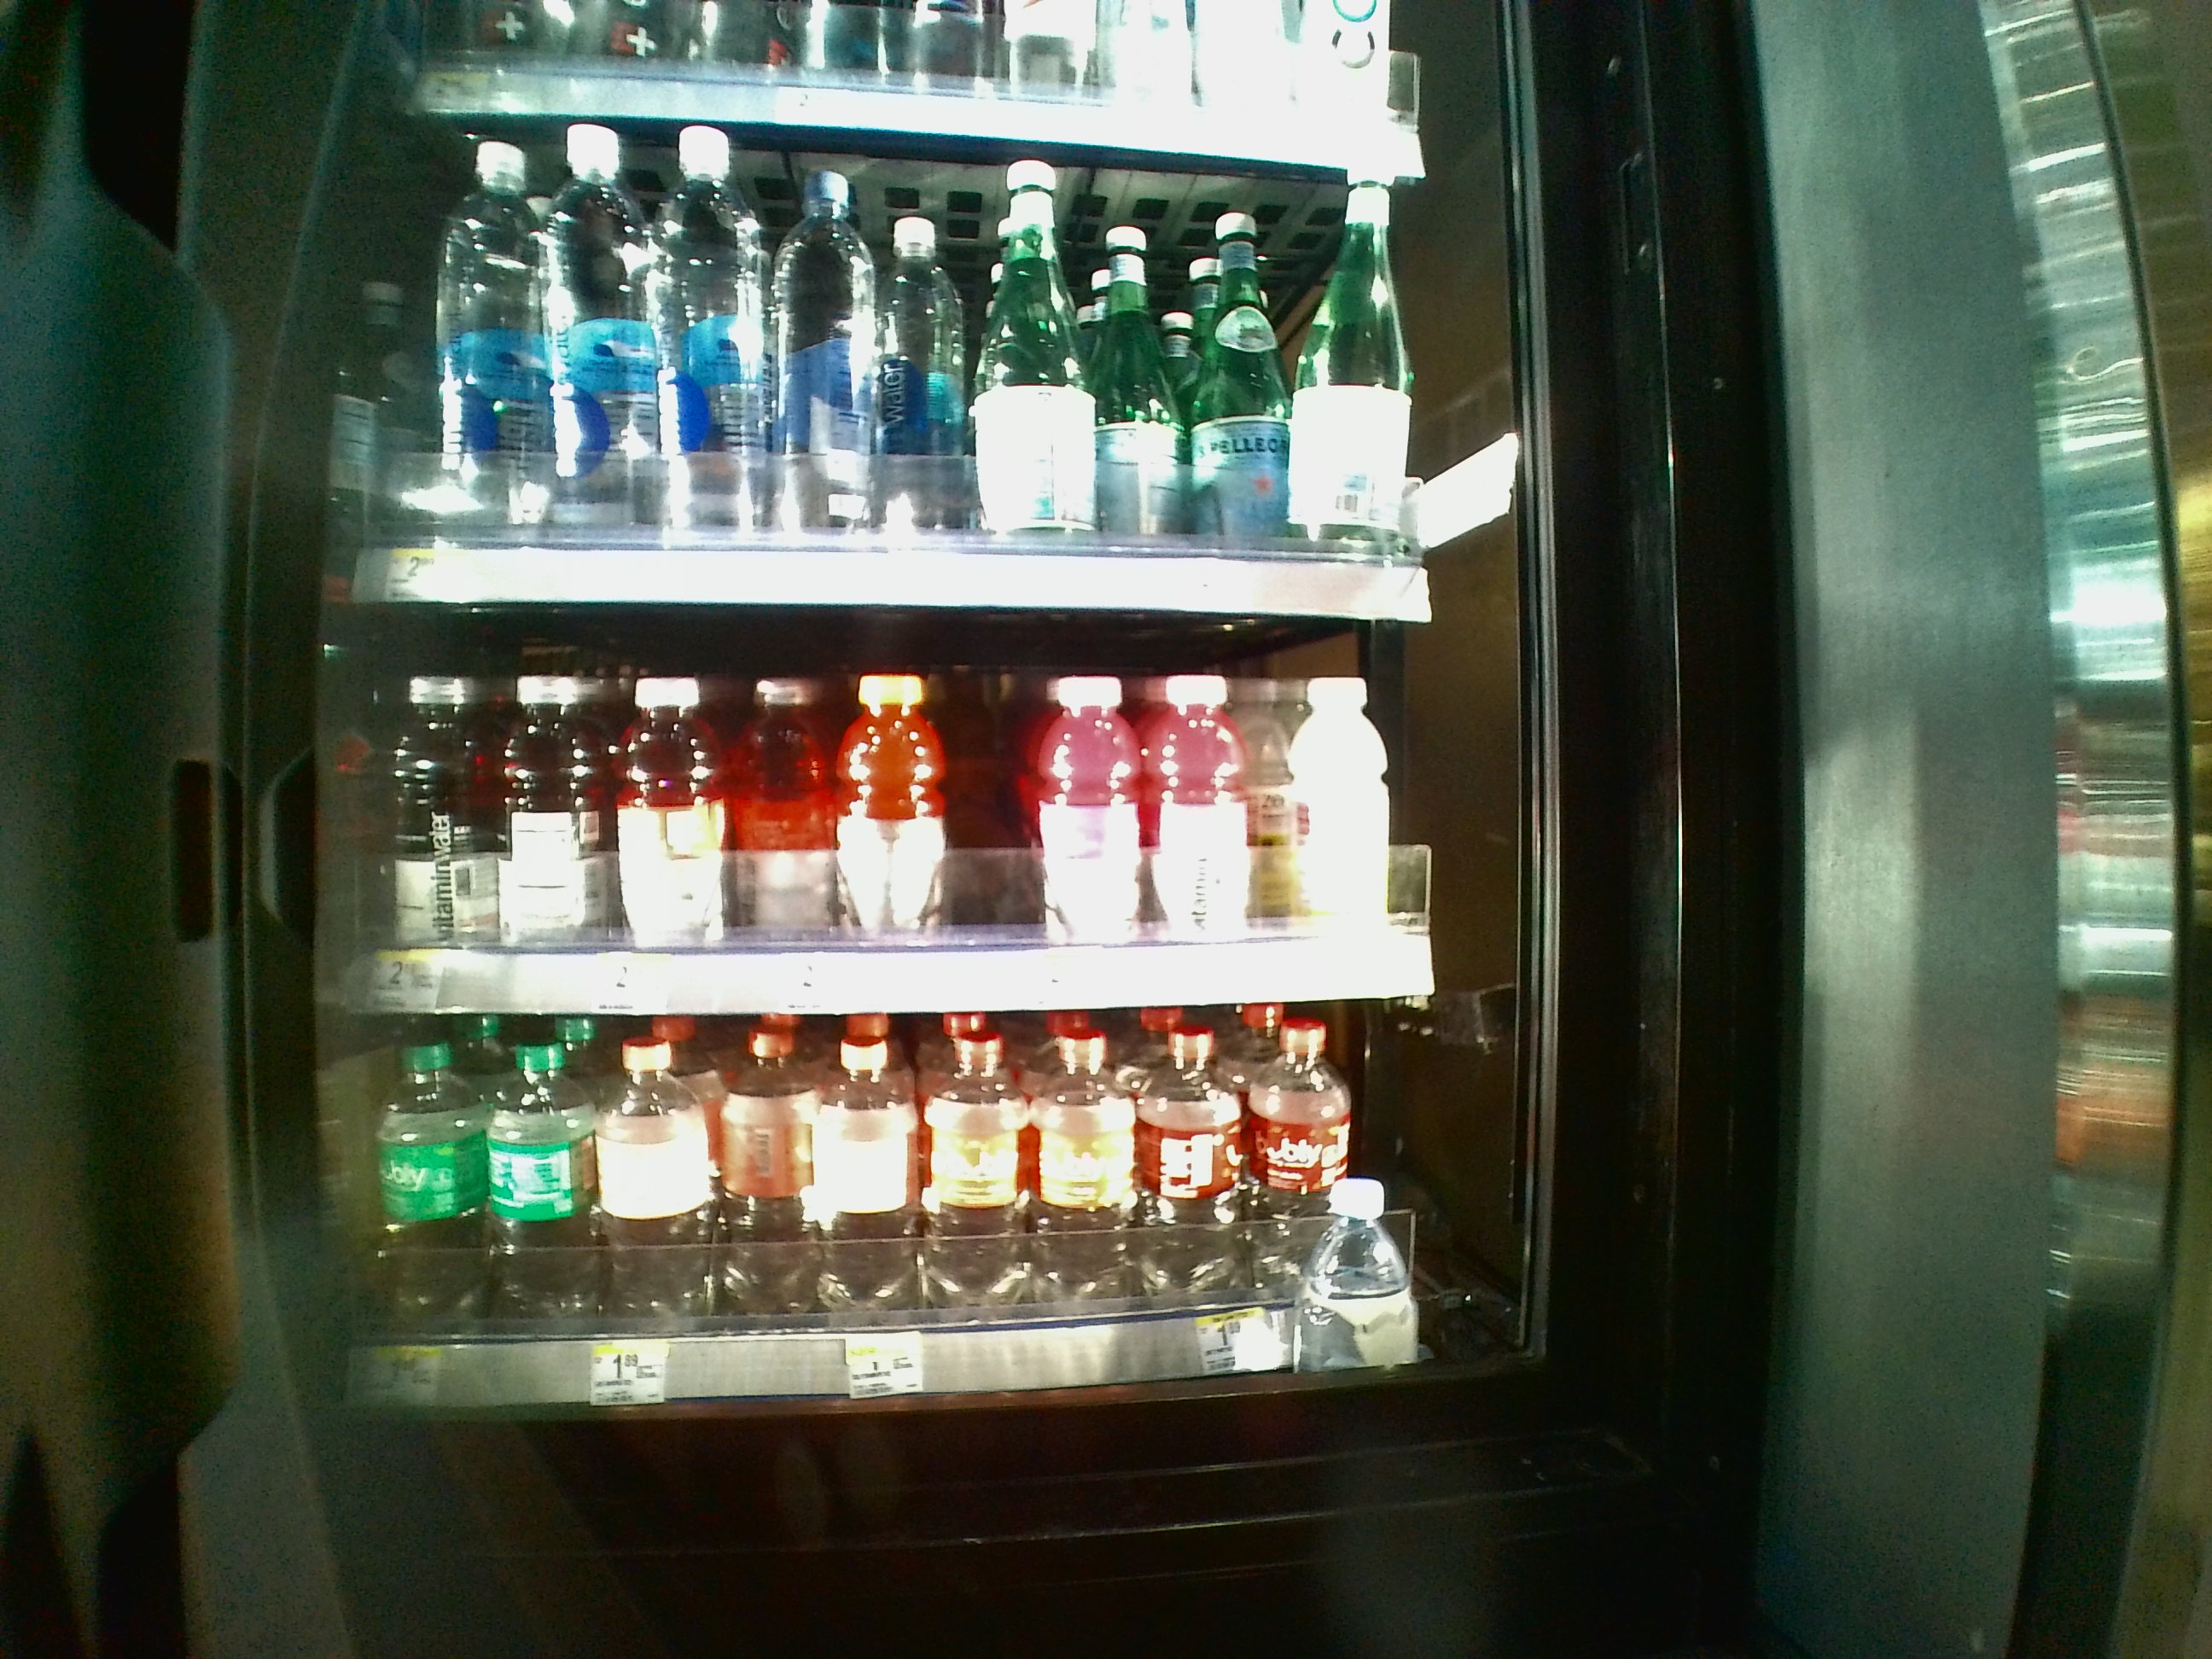Shelf: (319, 118, 1508, 626), (319, 1012, 1554, 1410), (319, 631, 1550, 1012)
